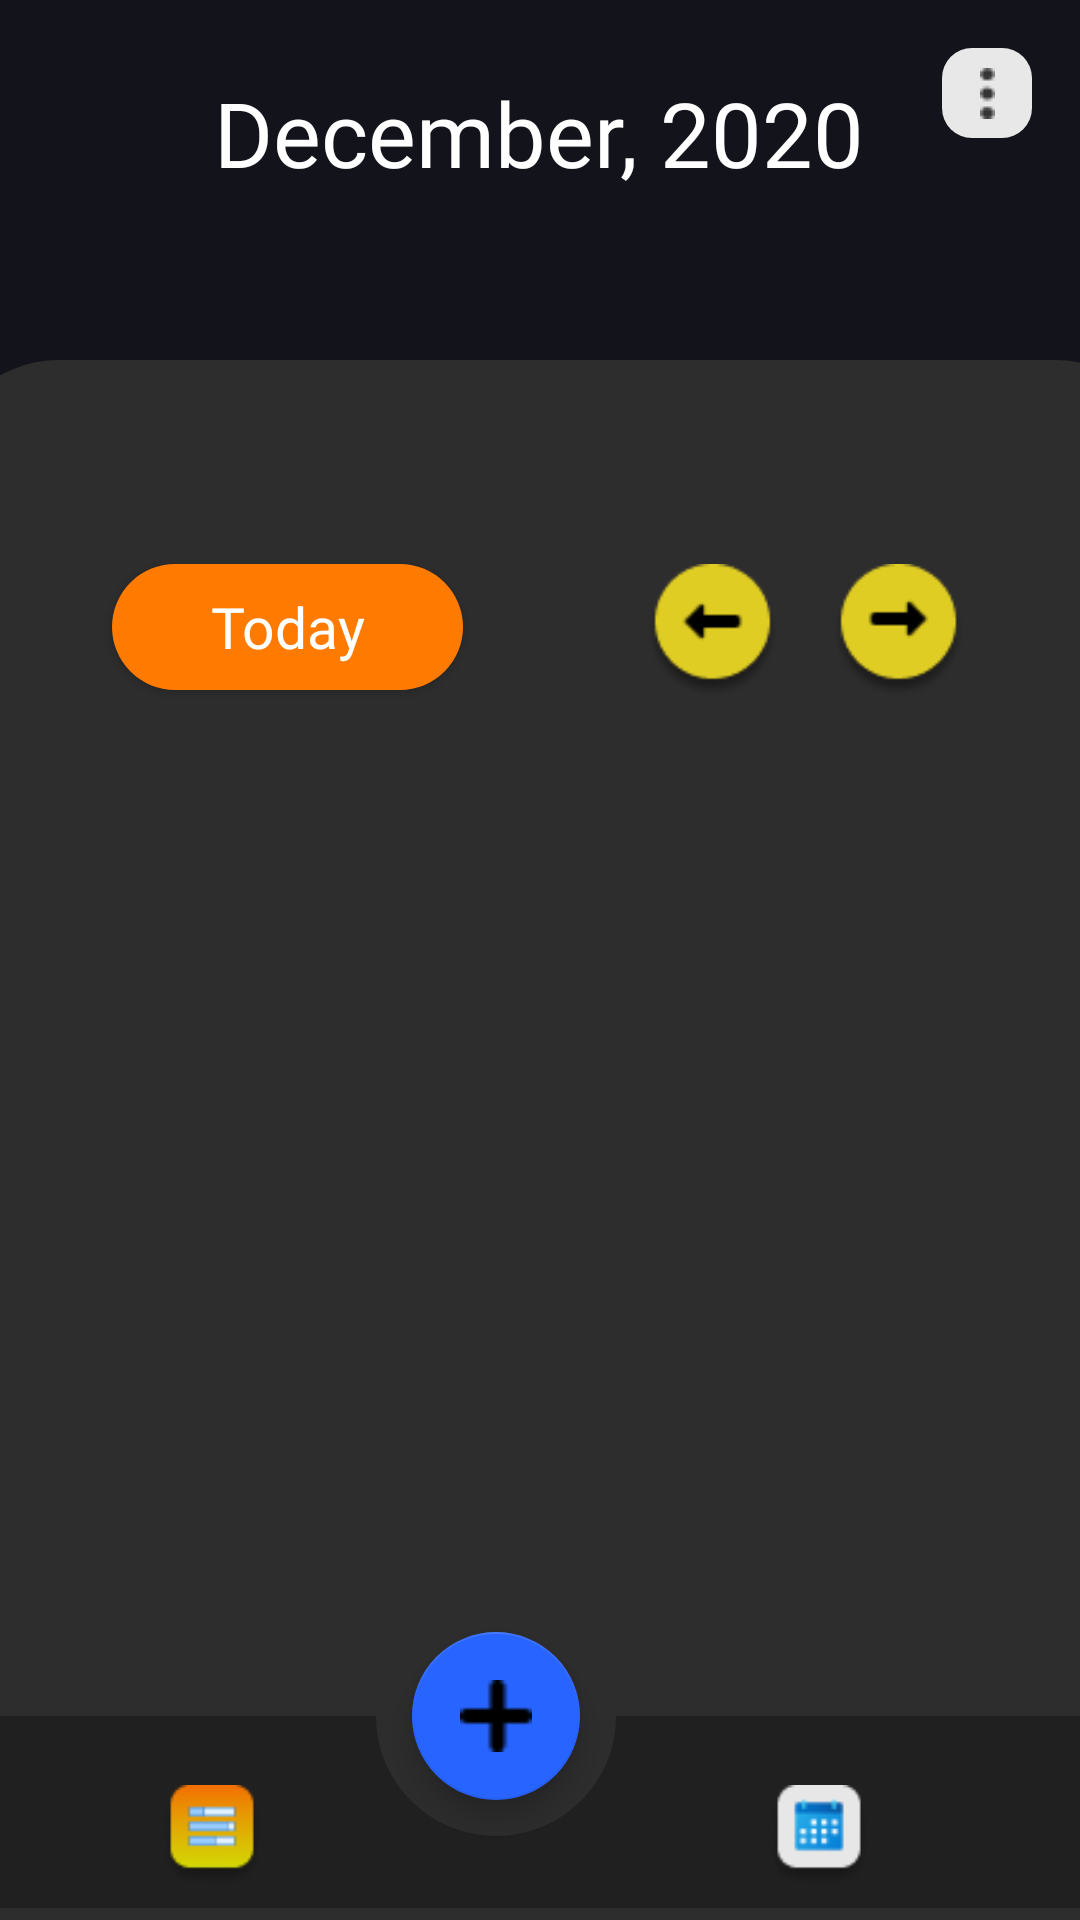

Where icons sit on this 1080w x 1920h app screen, as [x1, y1, x2, y2]:
calendar bottom select full: [777, 1785, 861, 1868]
dots: [942, 48, 1032, 138]
next day arrow: [840, 564, 957, 679]
previous day arrow: [654, 564, 771, 679]
task list full: [170, 1785, 254, 1868]
